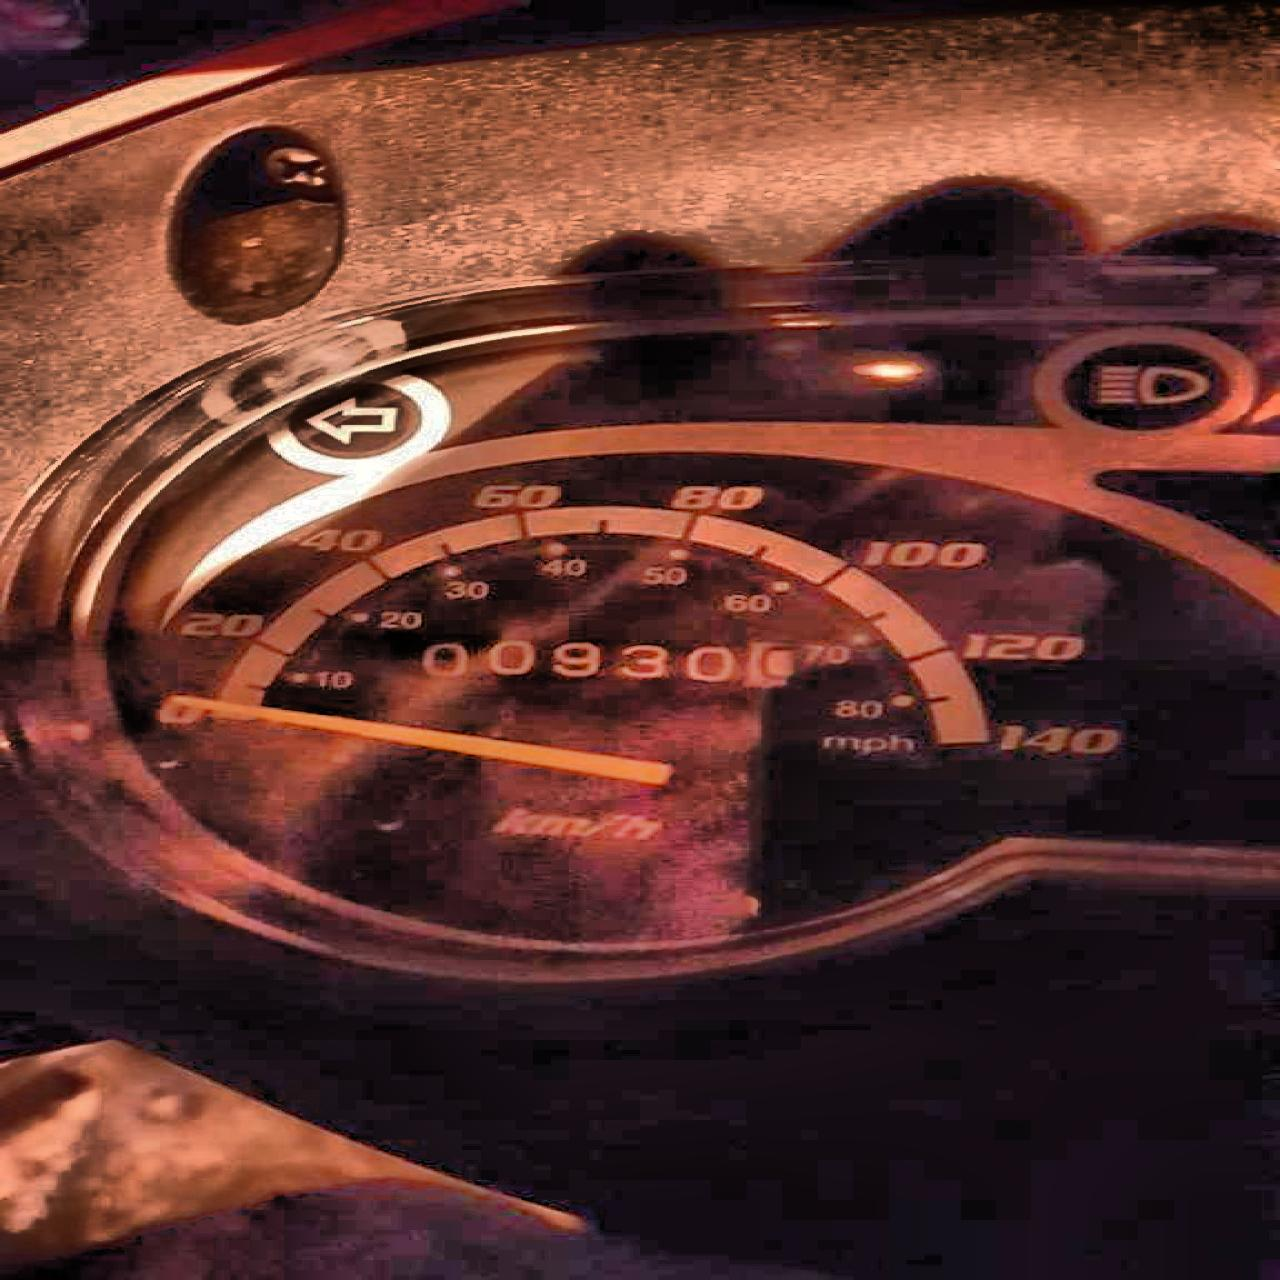0: (682, 642, 736, 686), (482, 638, 536, 679), (414, 640, 469, 679), (751, 642, 798, 683)
3: (620, 642, 669, 679)
9: (551, 640, 602, 675)
odometer: (387, 629, 806, 695)
